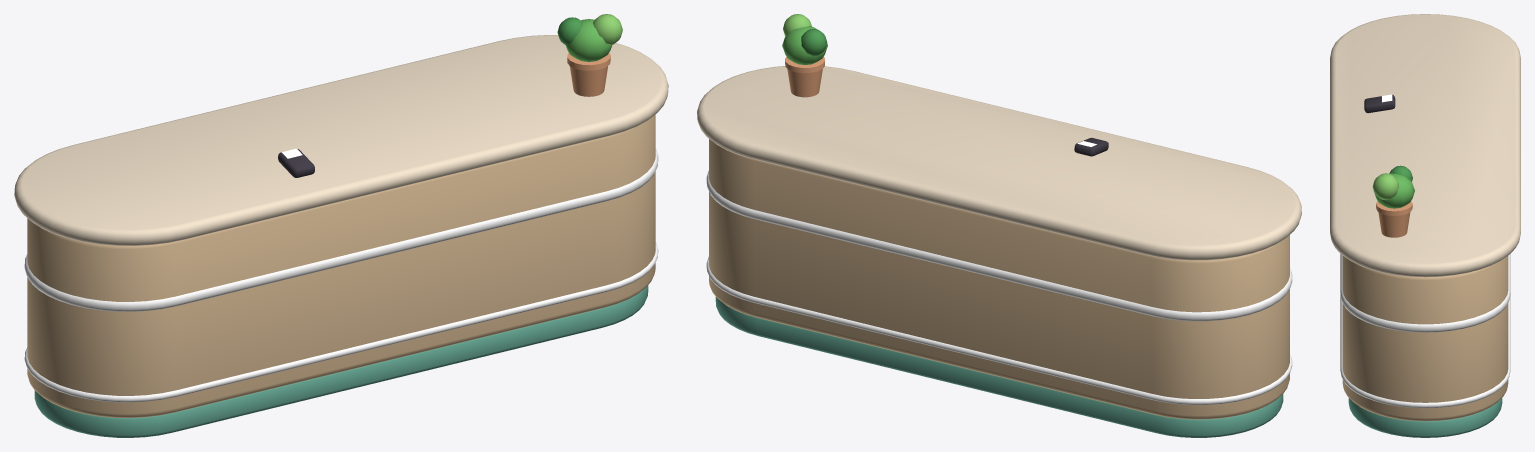
The model's file is vet_counter.glb.
3 renders of one model, left to right at view 1: azimuth 30°, elevation 25°; view 2: azimuth 150°, elevation 25°; view 3: azimuth 270°, elevation 25°, orthographic. The views are drawn at different scales.
Visible parts, largest first — view 1: vet_counter; view 2: vet_counter; view 3: vet_counter.
Boxes of the visible parts, x1,y1,x2,y2 form: vet_counter: [14, 14, 668, 437]; vet_counter: [697, 14, 1301, 437]; vet_counter: [1330, 14, 1520, 437].
Bounding box in the file's own units: 2.9 × 1.3 × 0.92.
